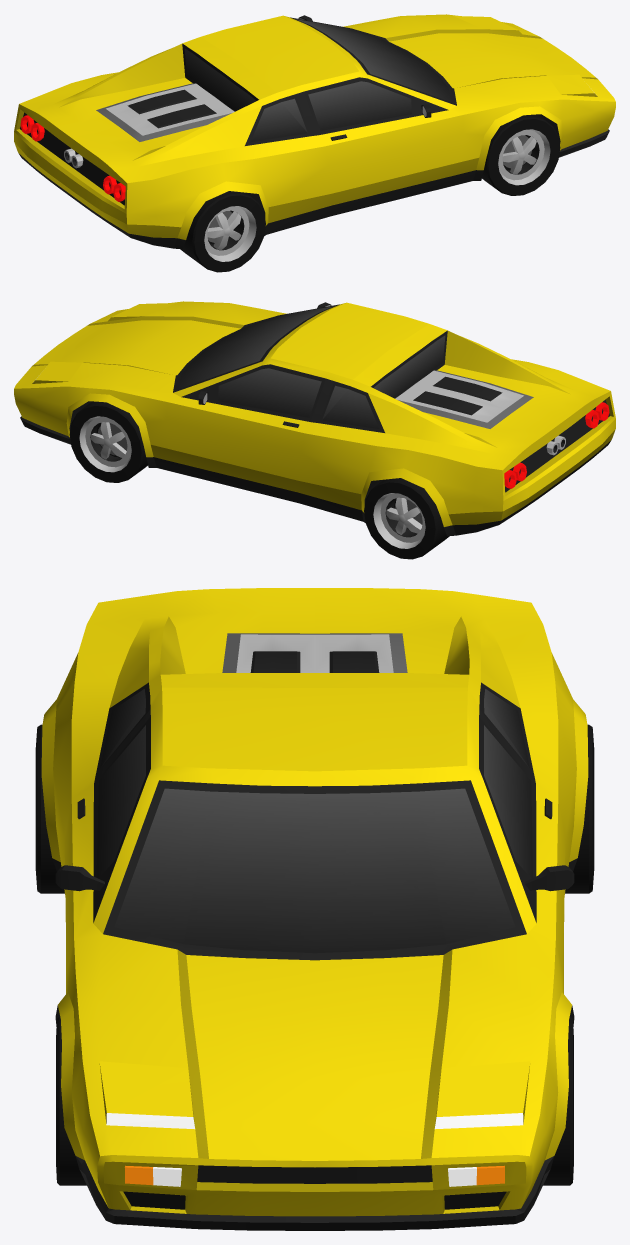
The model's file is Car_171.glb.
The picture shows the model from 3 angles, top to bottom: view 1: azimuth 30°, elevation 25°; view 2: azimuth 150°, elevation 25°; view 3: azimuth 270°, elevation 25°; orthographic projection. The views are drawn at different scales.
Parts seen in each view (by area): view 1: Car_171, wheel_3_Car_171_Wheel_2R, wheel_1_Car_171_Wheel_1R; view 2: Car_171, wheel_2_Car_171_Wheel_2L, wheel_0_Car_171_Wheel_1L; view 3: Car_171, wheel_2_Car_171_Wheel_2L, wheel_3_Car_171_Wheel_2R, wheel_0_Car_171_Wheel_1L, wheel_1_Car_171_Wheel_1R.
Boxes of the visible parts, x1,y1,x2,y2 form: Car_171: [14, 14, 615, 249]; wheel_3_Car_171_Wheel_2R: [180, 191, 265, 272]; wheel_1_Car_171_Wheel_1R: [482, 114, 560, 195]; Car_171: [14, 301, 615, 536]; wheel_2_Car_171_Wheel_2L: [364, 478, 449, 559]; wheel_0_Car_171_Wheel_1L: [69, 401, 147, 482]; Car_171: [41, 588, 588, 1230]; wheel_2_Car_171_Wheel_2L: [565, 724, 594, 893]; wheel_3_Car_171_Wheel_2R: [35, 724, 64, 893]; wheel_0_Car_171_Wheel_1L: [543, 1016, 573, 1185]; wheel_1_Car_171_Wheel_1R: [56, 1016, 86, 1185].
Bounding box in the file's own units: 4.44 × 1.17 × 2.11.
Materials: 2 (2 with a texture image).
